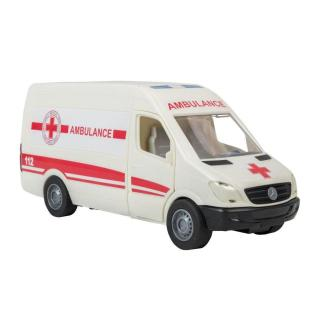Ambulance: (18, 39, 300, 277)
